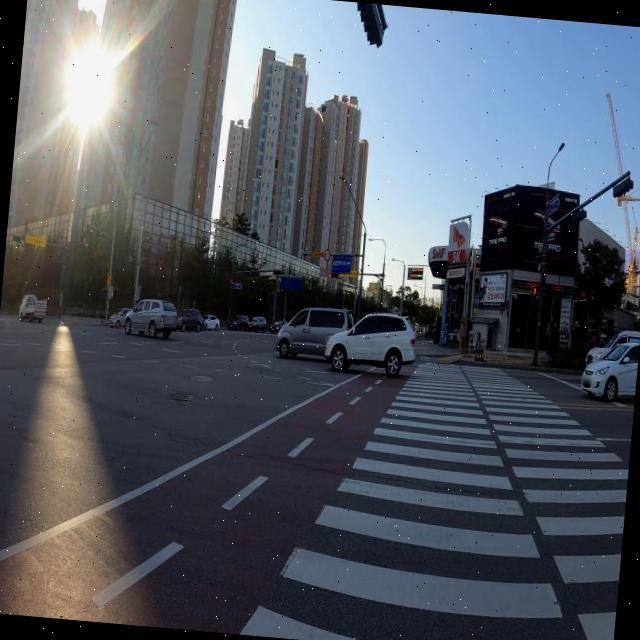crosswalk: (238, 358, 628, 640)
